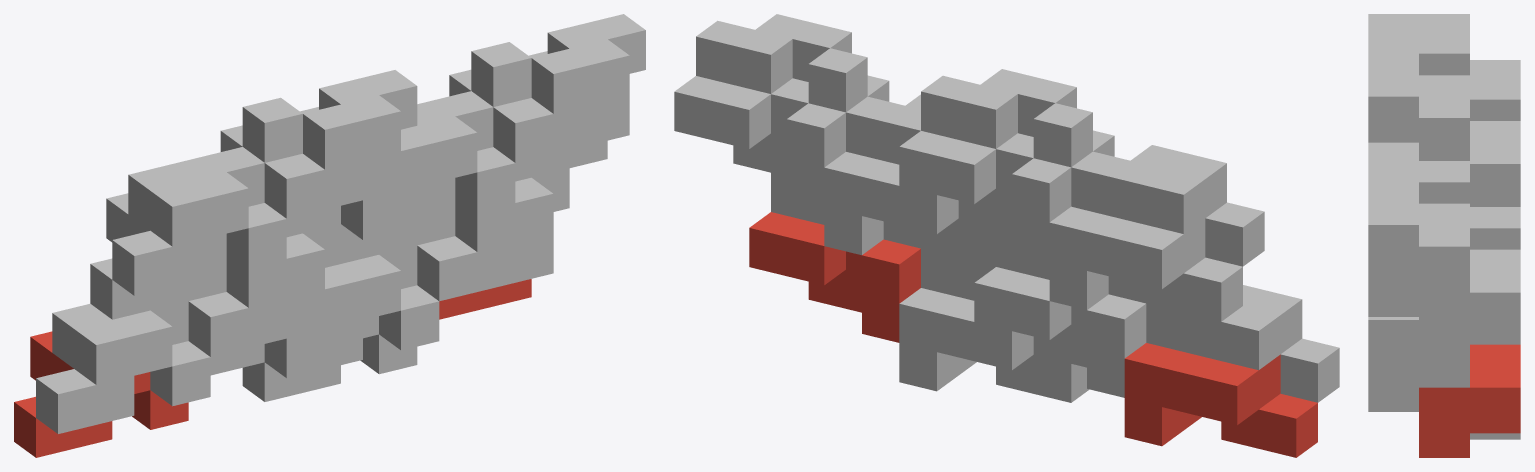
File: tiling.obj
3 views of the same model, side by side, from view 1: azimuth 30°, elevation 25°; view 2: azimuth 150°, elevation 25°; view 3: azimuth 270°, elevation 25° (orthographic). The views are drawn at different scales.
Visible parts, largest first — view 1: copy_2_domain_4, copy_2_domain_8, copy_1_domain_4, copy_1_domain_2, copy_1_domain_8, copy_2_domain_6, copy_2_domain_2, copy_1_domain_6, copy_1_domain_1, copy_1_domain_3, copy_1_domain_5, copy_2_domain_7 (+4 smaller); view 2: copy_1_domain_1, copy_1_domain_3, copy_1_domain_4, copy_2_domain_3, copy_2_domain_7, copy_2_domain_4, copy_2_domain_8, copy_1_domain_5, copy_2_domain_1, copy_2_domain_5, copy_1_domain_2, copy_1_domain_7 (+4 smaller); view 3: copy_2_domain_8, copy_2_domain_4, copy_2_domain_7, copy_2_domain_5, copy_2_domain_3, copy_2_domain_6, copy_1_domain_4, copy_1_domain_8, copy_1_domain_3, copy_1_domain_5, copy_1_domain_7.
Boxes of the visible parts, x1=… form: copy_2_domain_4: x1=242, y1=70, x2=417, y2=218; copy_2_domain_8: x1=471, y1=14, x2=645, y2=162; copy_1_domain_4: x1=112, y1=147, x2=286, y2=295; copy_1_domain_2: x1=36, y1=301, x2=210, y2=433; copy_1_domain_8: x1=341, y1=91, x2=515, y2=239; copy_2_domain_6: x1=417, y1=168, x2=569, y2=301; copy_2_domain_2: x1=188, y1=224, x2=340, y2=356; copy_1_domain_6: x1=264, y1=245, x2=439, y2=378; copy_1_domain_1: x1=14, y1=331, x2=188, y2=457; copy_1_domain_3: x1=90, y1=193, x2=226, y2=319; copy_1_domain_5: x1=242, y1=316, x2=417, y2=401; copy_2_domain_7: x1=449, y1=51, x2=607, y2=181; copy_1_domain_1: x1=1124, y1=343, x2=1317, y2=457; copy_1_domain_3: x1=1049, y1=206, x2=1242, y2=321; copy_1_domain_4: x1=1071, y1=145, x2=1264, y2=266; copy_2_domain_3: x1=899, y1=131, x2=1071, y2=261; copy_2_domain_7: x1=674, y1=76, x2=845, y2=206; copy_2_domain_4: x1=921, y1=69, x2=1114, y2=167; copy_2_domain_8: x1=696, y1=14, x2=889, y2=112; copy_1_domain_5: x1=899, y1=288, x2=1089, y2=402; copy_2_domain_1: x1=974, y1=267, x2=1146, y2=397; copy_2_domain_5: x1=749, y1=212, x2=920, y2=342; copy_1_domain_2: x1=1146, y1=285, x2=1339, y2=402; copy_1_domain_7: x1=824, y1=152, x2=995, y2=266; copy_2_domain_8: x1=1368, y1=161, x2=1469, y2=316; copy_2_domain_4: x1=1368, y1=32, x2=1469, y2=160; copy_2_domain_7: x1=1419, y1=207, x2=1520, y2=362; copy_2_domain_5: x1=1419, y1=344, x2=1520, y2=457; copy_2_domain_3: x1=1470, y1=78, x2=1520, y2=206; copy_2_domain_6: x1=1368, y1=317, x2=1469, y2=411; copy_1_domain_4: x1=1368, y1=14, x2=1469, y2=53; copy_1_domain_8: x1=1368, y1=142, x2=1418, y2=182; copy_1_domain_3: x1=1470, y1=60, x2=1520, y2=78; copy_1_domain_5: x1=1470, y1=433, x2=1520, y2=439; copy_1_domain_7: x1=1470, y1=338, x2=1520, y2=344.
Size of the model in its own units: 16 by 7 by 3.
